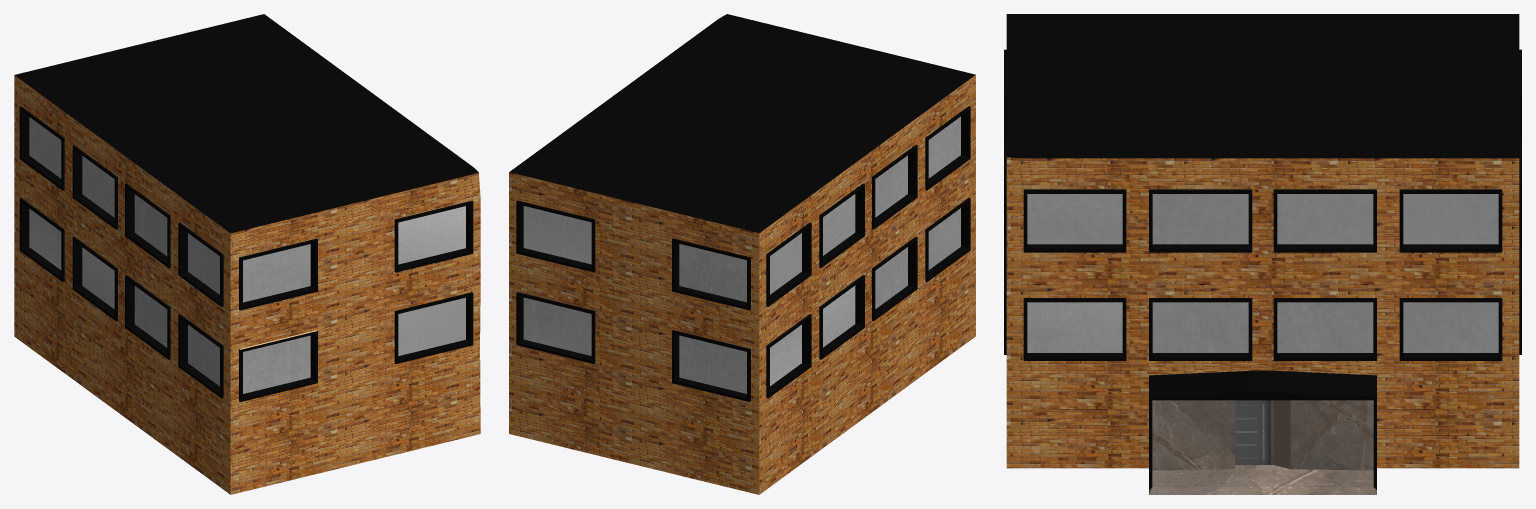
File: 2KerroksinenTalo.fbx
3 views of the same model, side by side, from view 1: azimuth 30°, elevation 25°; view 2: azimuth 150°, elevation 25°; view 3: azimuth 270°, elevation 25° (orthographic). The views are drawn at different scales.
Parts seen in each view (by area): view 1: Cube; view 2: Cube; view 3: Cube.
Boxes of the visible parts, x1,y1,x2,y2 form: Cube: [14, 14, 480, 494]; Cube: [509, 14, 975, 494]; Cube: [1004, 14, 1521, 494].
Bounding box in the file's own units: 2384 × 2002 × 3030.
